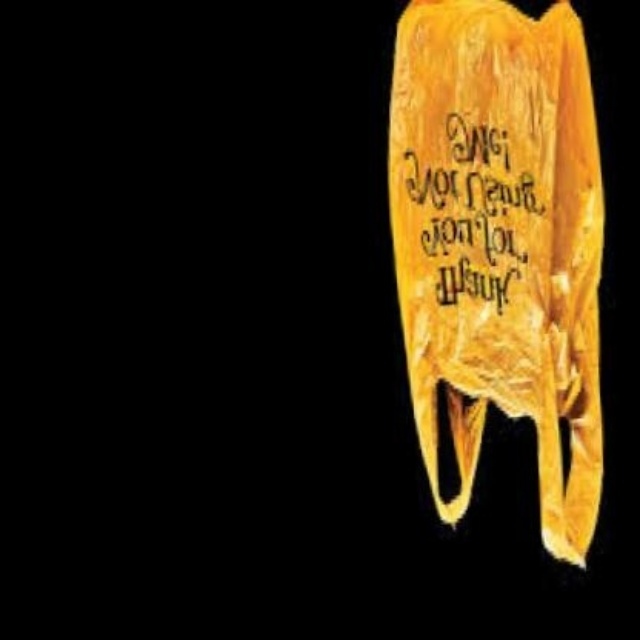trash: (389, 0, 602, 565)
